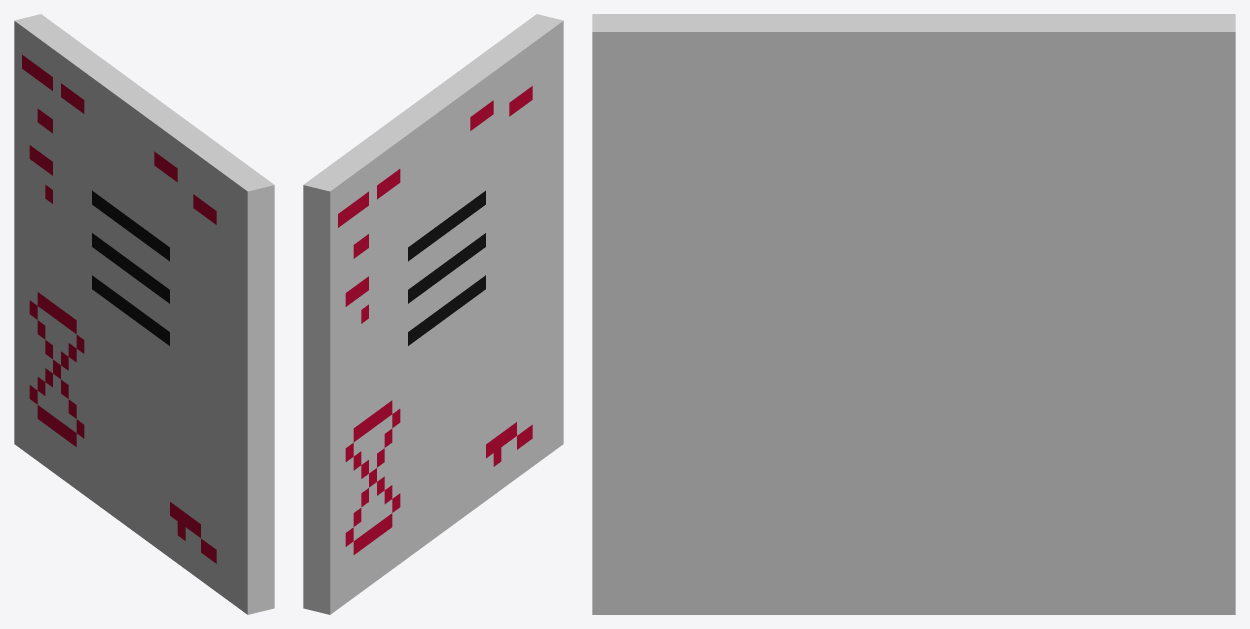
Rendered from menupage.obj.
The picture shows the model from 3 angles, left to right: view 1: azimuth 30°, elevation 25°; view 2: azimuth 150°, elevation 25°; view 3: azimuth 270°, elevation 25°; orthographic projection. The views are drawn at different scales.
Size of the model in its own units: 0.2 by 3 by 3.
Materials: 1 (1 with a texture image).
